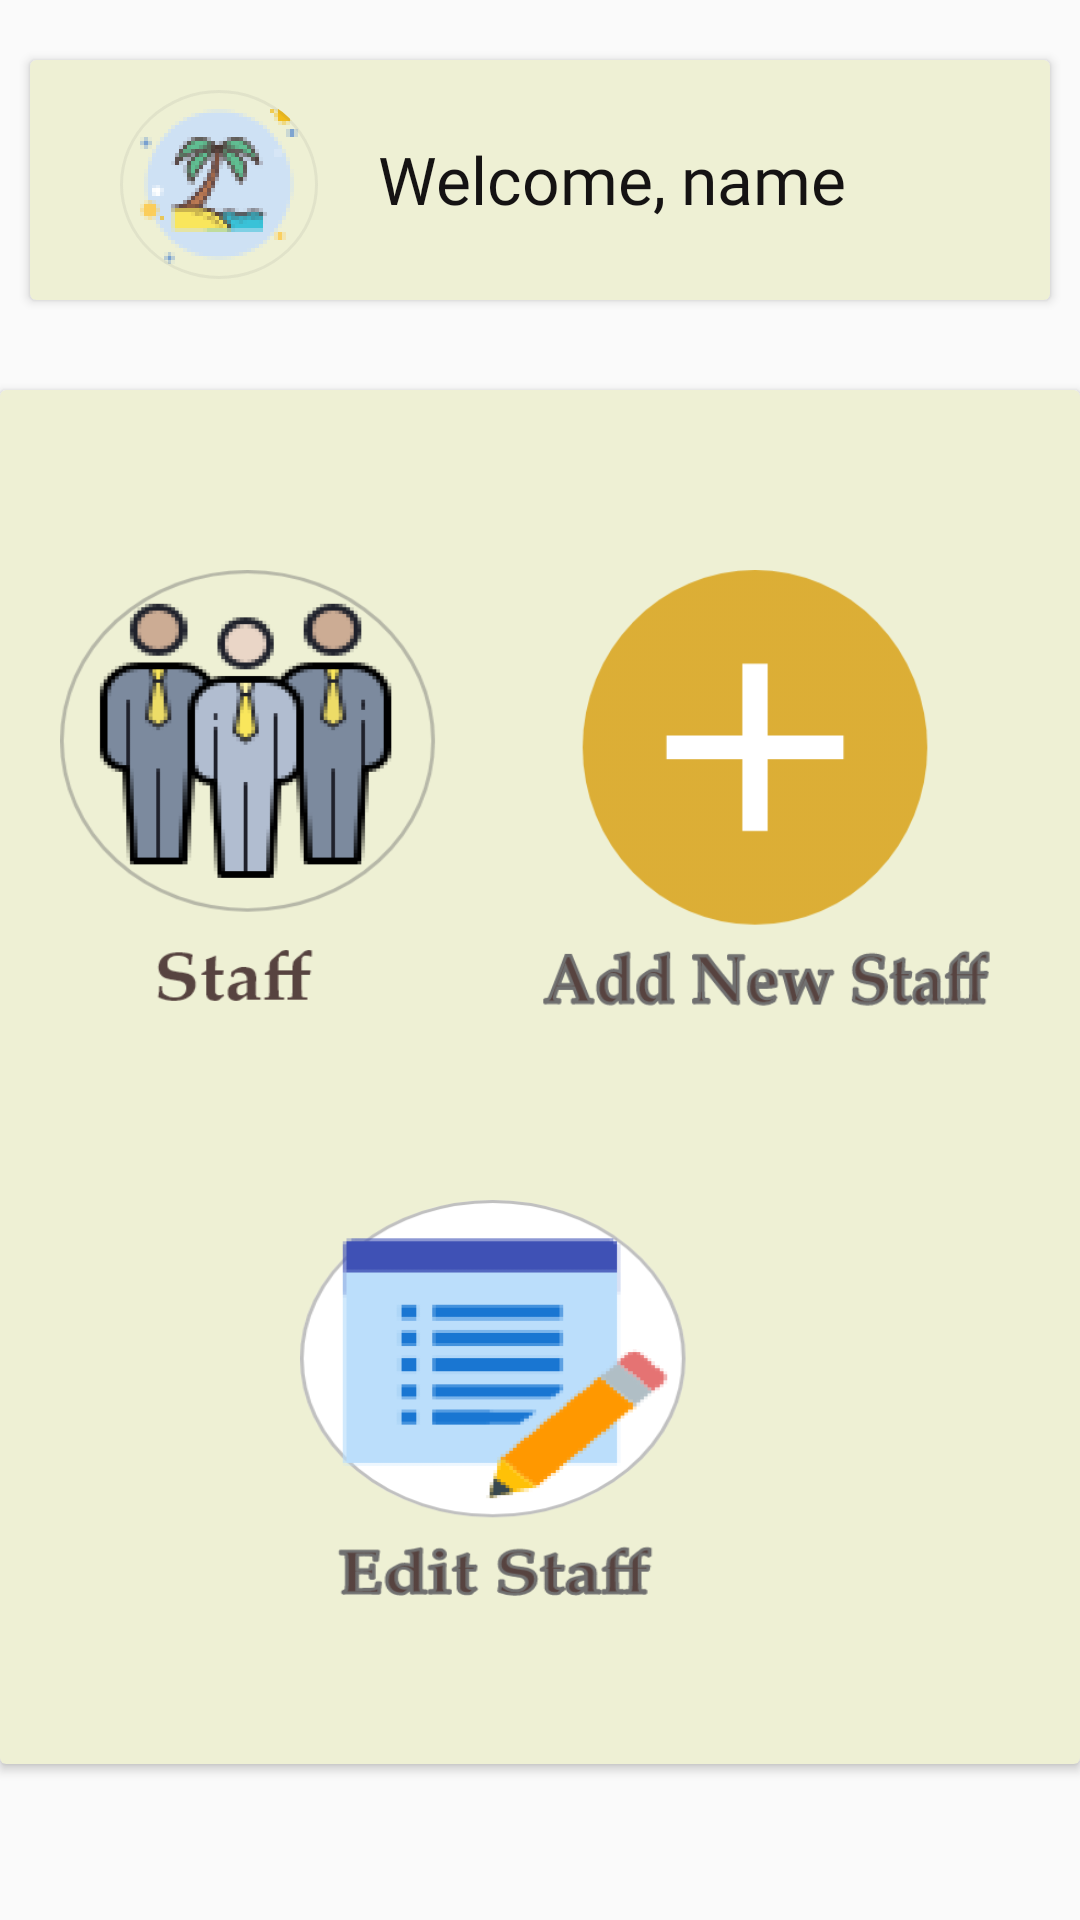

Icons on this 1080w x 1920h Android screen, each with its box as (x1, y1, x2, y2):
beach: (140, 109, 298, 264)
